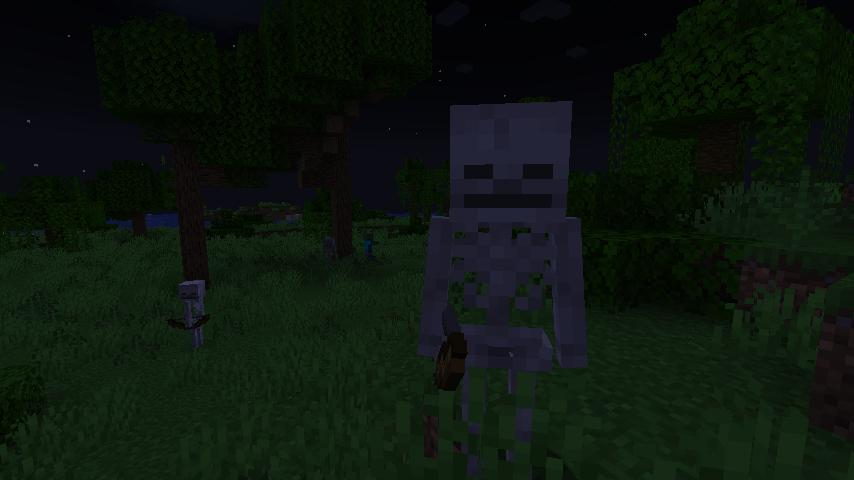skeleton: (418, 93, 590, 480), (167, 277, 212, 352), (323, 234, 340, 267)
zombie: (362, 232, 379, 261)
